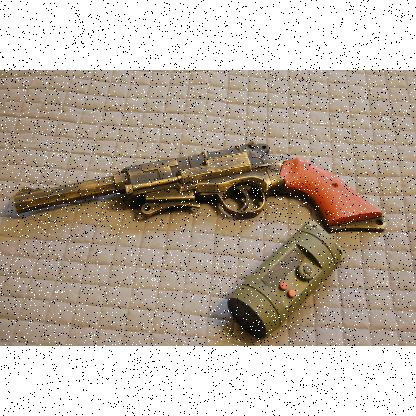gun: (13, 140, 386, 233)
